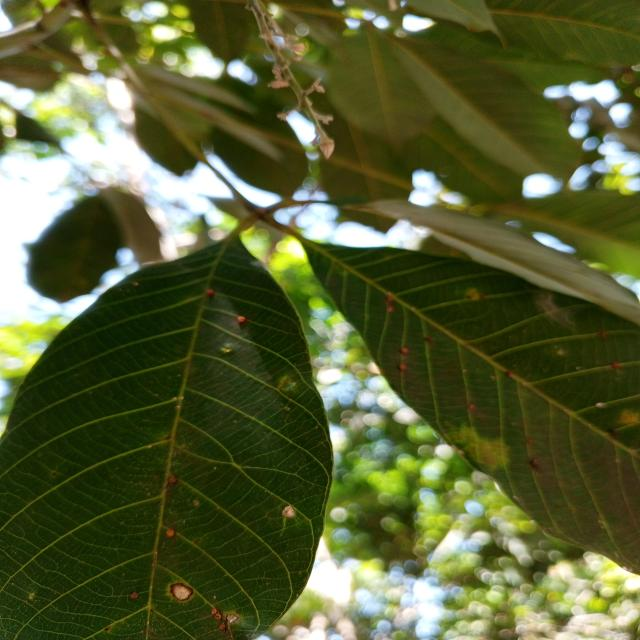Colletotrichum: (170, 583, 193, 601)
